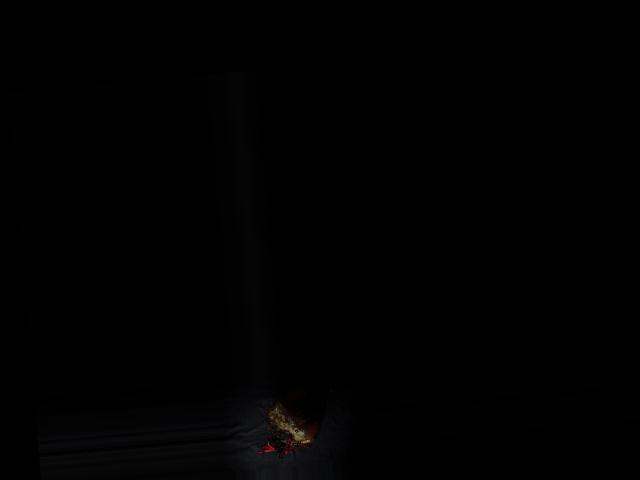beet: (252, 380, 343, 460)
